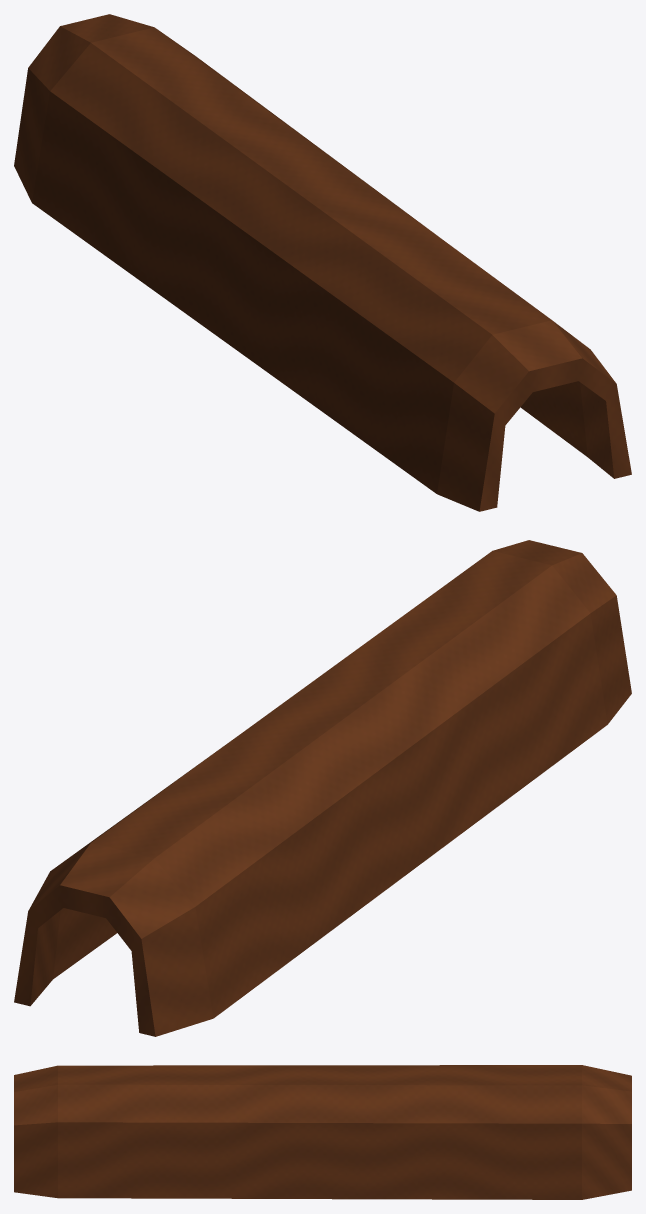
File: m14_guard.glb
3 views of the same model, one above another, from view 1: azimuth 30°, elevation 25°; view 2: azimuth 150°, elevation 25°; view 3: azimuth 270°, elevation 25° (orthographic). The views are drawn at different scales.
Parts seen in each view (by area): view 1: handguard__m14_guard_LOD0_RAID_Secondary_Original_wood; view 2: handguard__m14_guard_LOD0_RAID_Secondary_Original_wood; view 3: handguard__m14_guard_LOD0_RAID_Secondary_Original_wood.
Part boxes in pixels (<box>): handguard__m14_guard_LOD0_RAID_Secondary_Original_wood: <box>14,14,631,511</box>; handguard__m14_guard_LOD0_RAID_Secondary_Original_wood: <box>14,540,631,1036</box>; handguard__m14_guard_LOD0_RAID_Secondary_Original_wood: <box>14,1065,631,1199</box>.
Size of the model in its own units: 0.069 by 0.053 by 0.31.
Materials: 1 (1 with a texture image).
